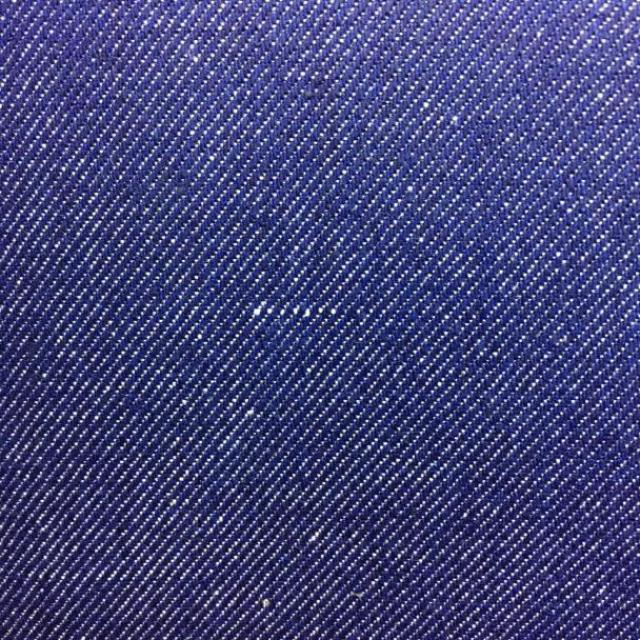Knot: (252, 300, 338, 319)
